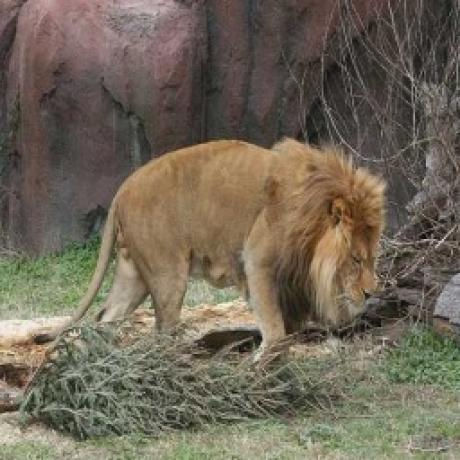Lion: (68, 117, 388, 360)
